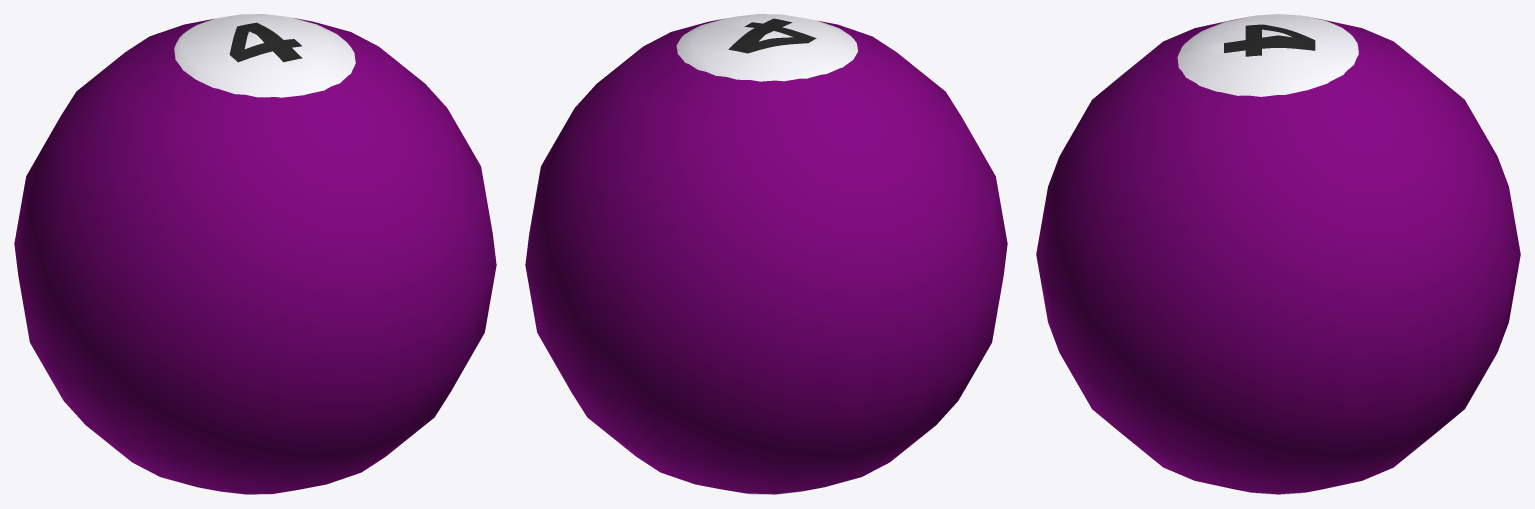
File: 4ball.dae
3 views of the same model, side by side, from view 1: azimuth 30°, elevation 25°; view 2: azimuth 150°, elevation 25°; view 3: azimuth 270°, elevation 25° (orthographic).
Visible parts, largest first — view 1: Billiard_Ball__4_Purple (×3); view 2: Billiard_Ball__4_Purple (×3); view 3: Billiard_Ball__4_Purple (×3).
Boxes of the visible parts, x1,y1,x2,y2 form: Billiard_Ball__4_Purple (×3): [14, 14, 496, 494]; Billiard_Ball__4_Purple (×3): [525, 14, 1007, 494]; Billiard_Ball__4_Purple (×3): [1036, 14, 1520, 494].
Bounding box in the file's own units: 1.58 × 1.58 × 1.58.
